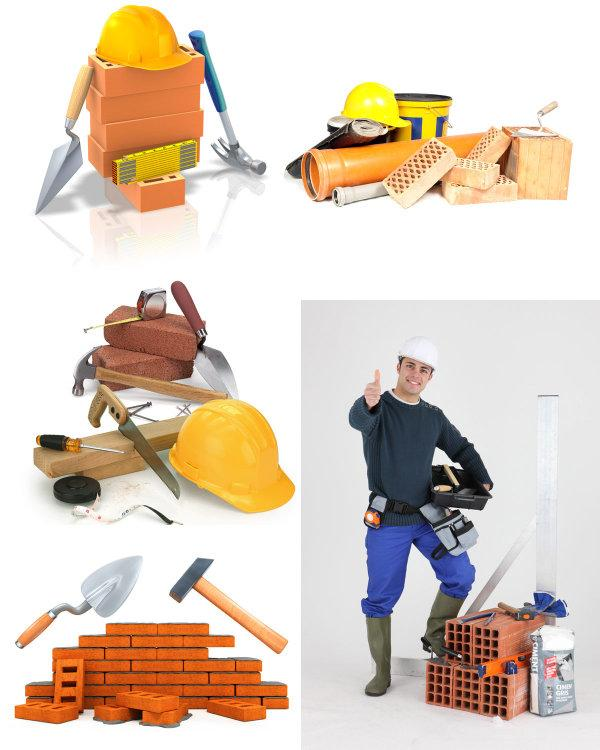helmet: (169, 399, 298, 515), (95, 6, 194, 72), (343, 84, 413, 128), (398, 336, 440, 374)
